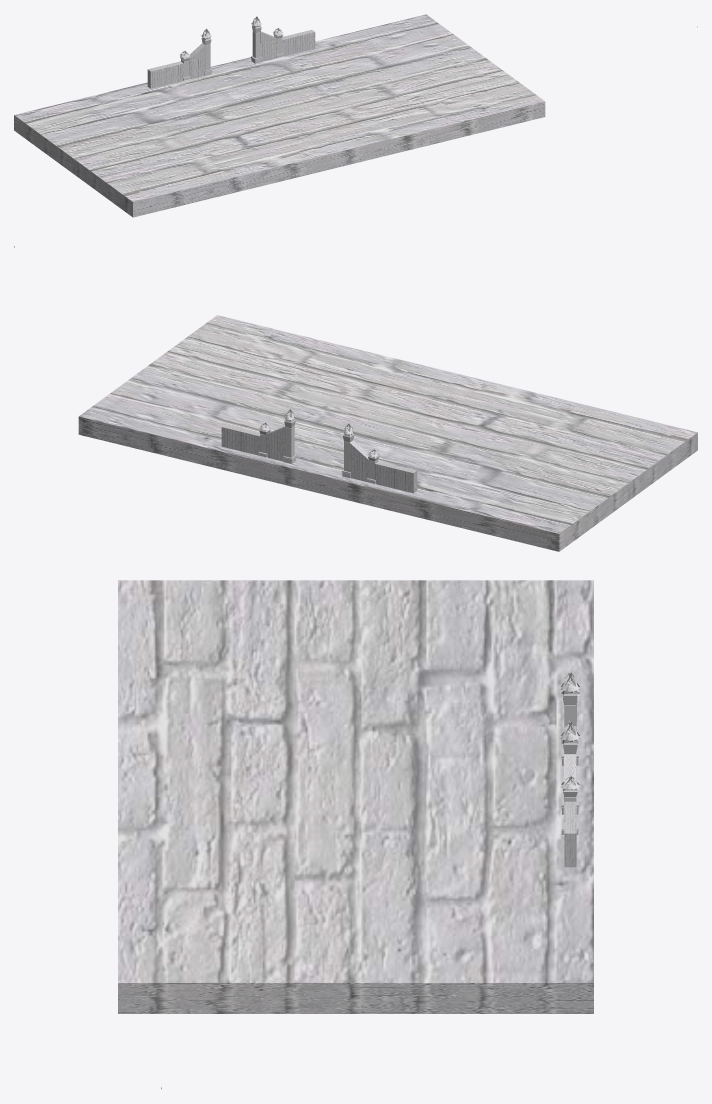
Rendered from Cổng.glb.
3 views of the same model, one above another, from view 1: azimuth 30°, elevation 25°; view 2: azimuth 150°, elevation 25°; view 3: azimuth 270°, elevation 25° (orthographic). The views are drawn at different scales.
Visible parts, largest first — view 1: Khối Lập Phương.001, Khối Lập Phương.006; view 2: Khối Lập Phương.001, Khối Lập Phương.006; view 3: Khối Lập Phương.001, Khối Lập Phương.006.
Part boxes in pixels (bbox=[...]): Khối Lập Phương.001: bbox=[14, 14, 545, 217]; Khối Lập Phương.006: bbox=[147, 16, 315, 88]; Khối Lập Phương.001: bbox=[78, 315, 697, 551]; Khối Lập Phương.006: bbox=[221, 408, 417, 493]; Khối Lập Phương.001: bbox=[118, 580, 593, 1013]; Khối Lập Phương.006: bbox=[560, 672, 579, 867].
Bounding box in the file's own units: 161 × 16.15 × 57.49.
14 materials, 14 textured.
